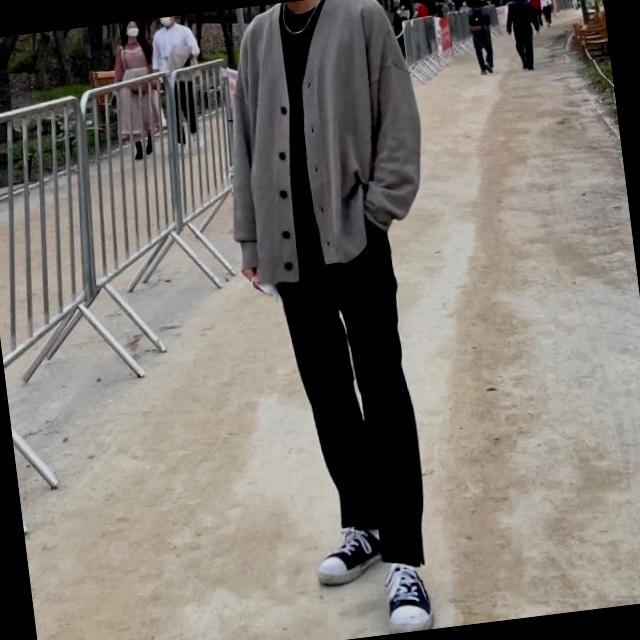cardigan: (207, 0, 438, 290)
slacks: (266, 179, 436, 578)
